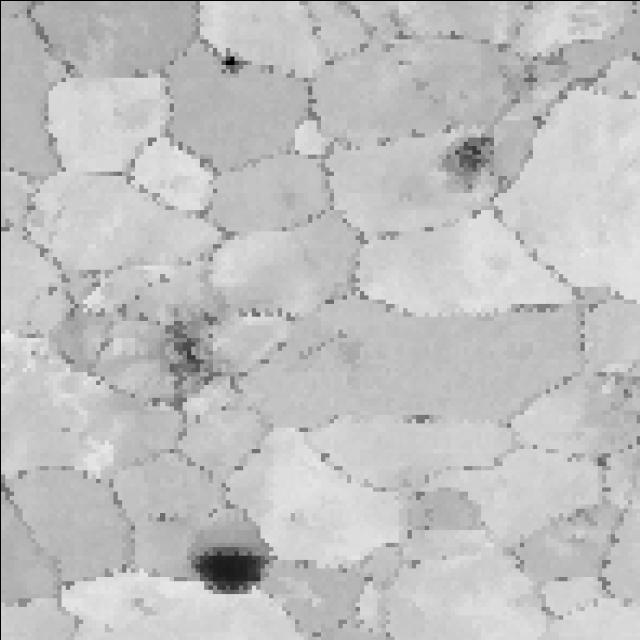good_void: (154, 297, 228, 420), (434, 118, 504, 192), (181, 546, 272, 598), (493, 56, 546, 113), (205, 52, 253, 92), (122, 596, 160, 623), (395, 408, 448, 425)
